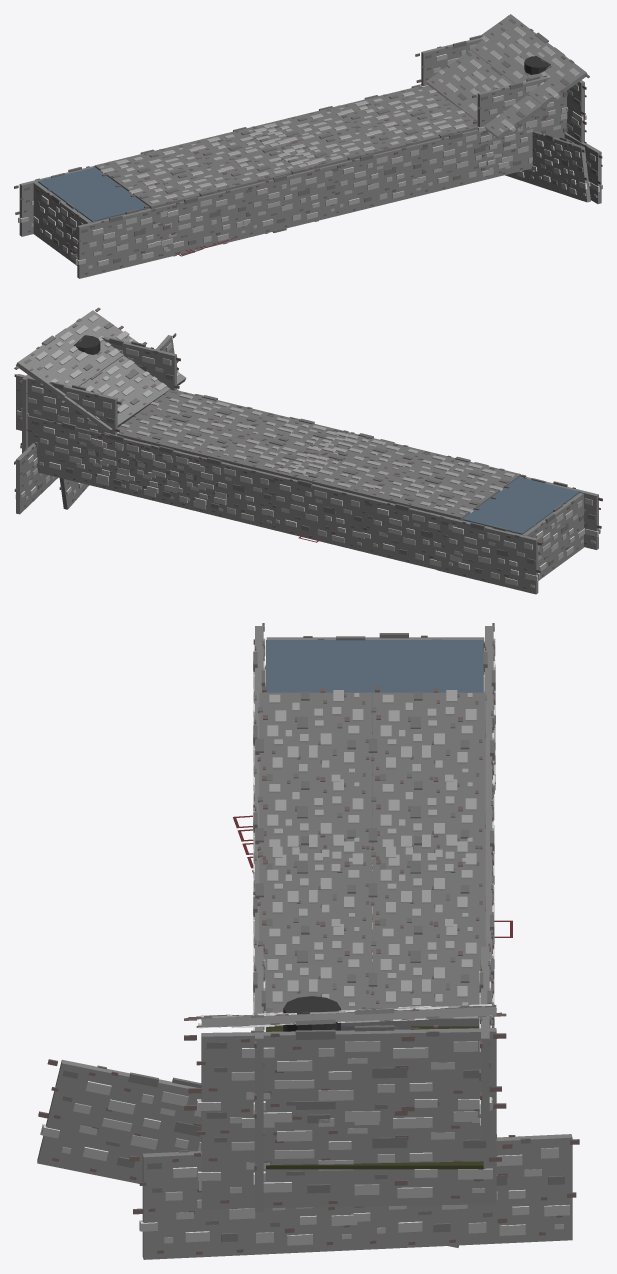
Rendered from Sewer Basement .fbx.
3 renders of one model, top to bottom at view 1: azimuth 30°, elevation 25°; view 2: azimuth 150°, elevation 25°; view 3: azimuth 270°, elevation 25°, orthographic. The views are drawn at different scales.
Visible parts, largest first — view 1: full brick wall.001, full brick wall.004, semi light wood.006, semi light wood.003, semi light wood.001, semi light wood.013, semi light wood.005, semi light wood.007, semi light wood.002, semi light wood.014, full brick wall.005, semi light wood.010 (+6 smaller); view 2: full brick wall.001, full brick wall.004, full brick wall, full brick wall.003, semi light wood.006, semi light wood.004, full brick wall.007, semi light wood.013, semi light wood.012, semi light wood.014, semi light wood.010, full brick wall.006 (+3 smaller); view 3: full brick wall.001, full brick wall.004, full brick wall.006, semi light wood.009, semi light wood.011, full brick wall.005, semi light wood.006, semi light wood.013, semi light wood.012, full brick wall, semi light wood.010, semi dark wood.003 (+4 smaller).
Part boxes in pixels (x1,y1,x2,y2): full brick wall.001: (94, 120, 336, 208); full brick wall.004: (247, 85, 478, 172); semi light wood.006: (33, 167, 149, 265); semi light wood.003: (71, 204, 176, 278); semi light wood.001: (328, 144, 427, 217); semi light wood.013: (470, 14, 589, 106); semi light wood.005: (242, 165, 341, 238); semi light wood.007: (153, 187, 252, 258); semi light wood.002: (418, 129, 515, 195); semi light wood.014: (426, 50, 545, 139); full brick wall.005: (505, 131, 590, 202); semi light wood.010: (472, 75, 567, 141); full brick wall.001: (265, 426, 526, 519); full brick wall.004: (116, 389, 369, 476); full brick wall: (264, 474, 461, 569); full brick wall.003: (75, 428, 278, 527); semi light wood.006: (462, 477, 585, 580); semi light wood.004: (437, 516, 542, 594); full brick wall.007: (28, 415, 230, 514); semi light wood.013: (14, 307, 137, 399); semi light wood.012: (14, 374, 121, 435); semi light wood.014: (61, 342, 186, 433); semi light wood.010: (101, 336, 180, 390); full brick wall.006: (14, 442, 57, 514); full brick wall.001: (255, 686, 485, 873); full brick wall.004: (255, 831, 485, 1029); full brick wall.006: (129, 1134, 579, 1259); semi light wood.009: (184, 1100, 506, 1209); semi light wood.011: (184, 1025, 506, 1137); full brick wall.005: (37, 1059, 458, 1247); semi light wood.006: (253, 633, 484, 734); semi light wood.013: (184, 1004, 506, 1027); semi light wood.012: (479, 943, 491, 1141); full brick wall: (485, 696, 494, 943); semi light wood.010: (253, 943, 265, 1113); semi dark wood.003: (266, 1030, 483, 1169).
Size of what is drawn, in the model's own units: 5340 by 1394 by 2491.
